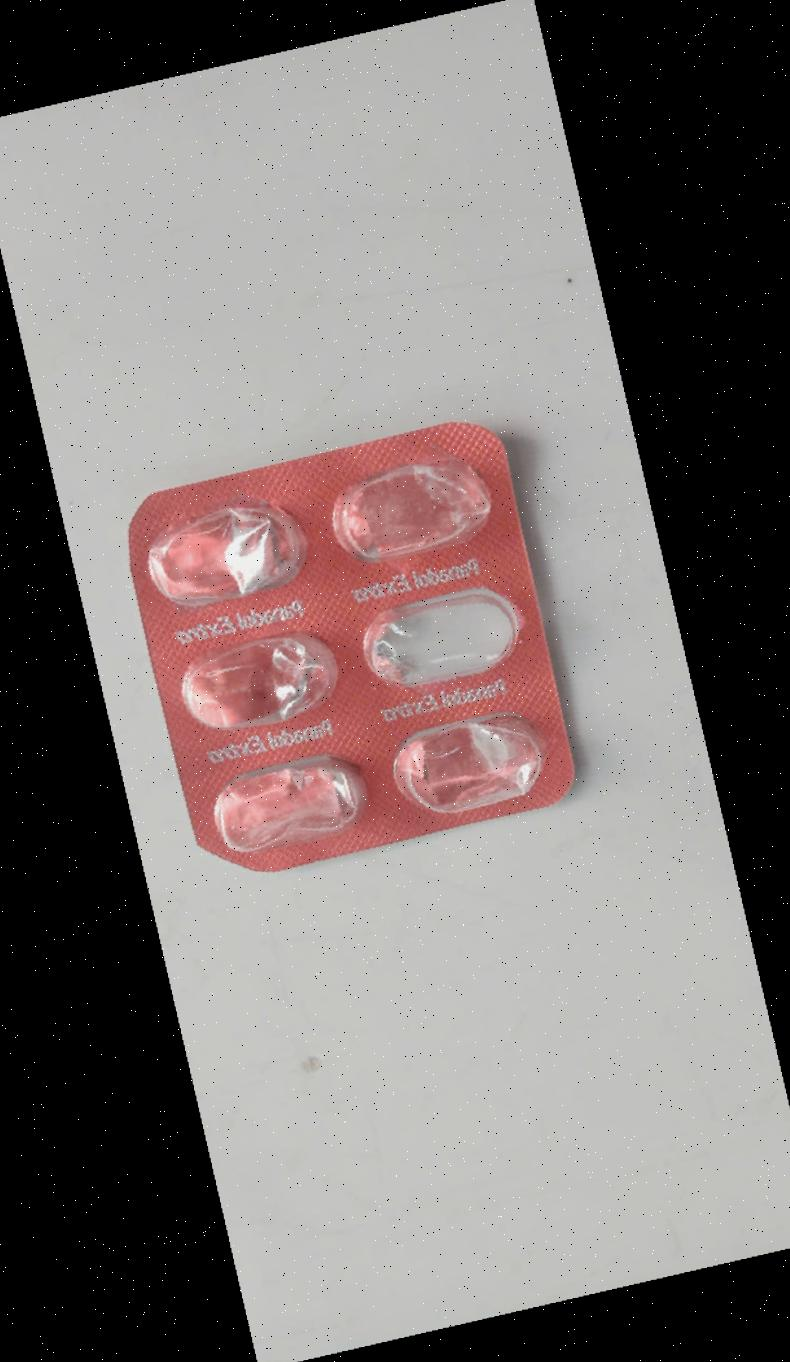Empty: (315, 445, 506, 573), (345, 573, 536, 701), (377, 698, 568, 826), (161, 616, 352, 744), (190, 738, 381, 866), (132, 489, 322, 617)
